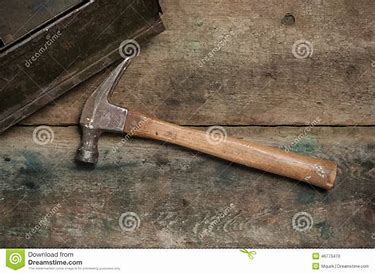martillu: (65, 50, 346, 202)
